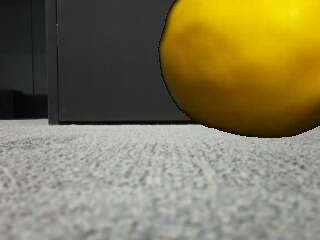lemon: (163, 0, 320, 137)
